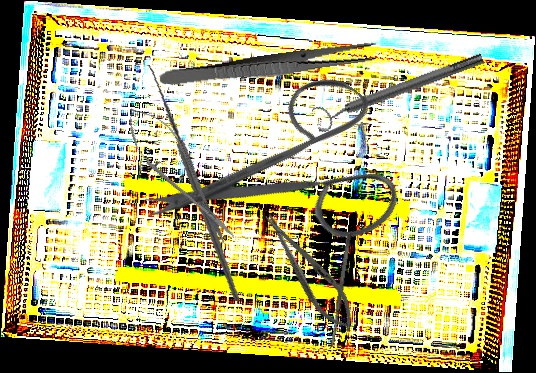Dressing Forceps: (158, 39, 379, 93)
Fixation Ring: (310, 45, 488, 135)
Hook Surgical: (97, 62, 280, 303)
Iris Scissors: (136, 27, 439, 333)
Micro Scissor: (113, 96, 247, 253)
Needle Holder: (253, 204, 366, 340)
Spatula Surgical: (328, 232, 353, 348)
